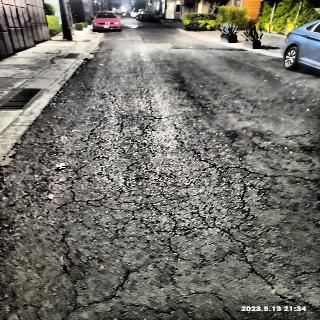alligator-crack: (66, 99, 320, 320), (88, 132, 300, 296)
